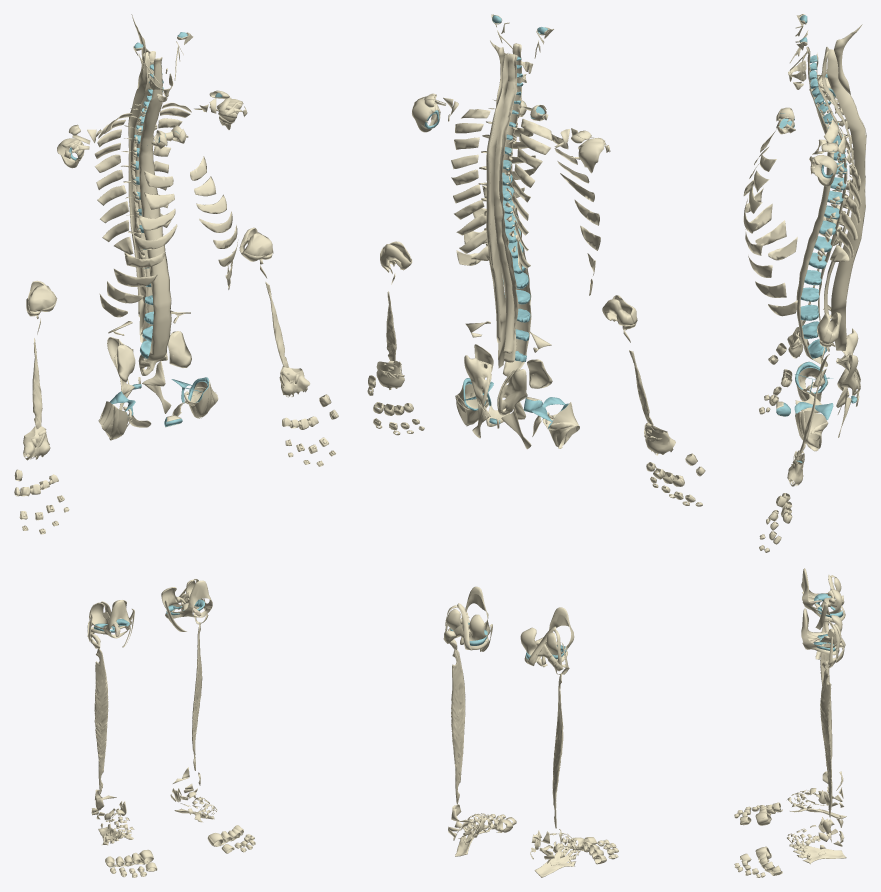
The model's file is joints.glb.
3 views of the same model, side by side, from view 1: azimuth 30°, elevation 25°; view 2: azimuth 150°, elevation 25°; view 3: azimuth 270°, elevation 25° (orthographic). The views are drawn at different scales.
Parts seen in each view (by area): view 1: anterior-longitudinal-ligament, external-intercostal-membrane-right, internal-intercostal-membrane-right, external-intercostal-membrane-left, interosseous-membrane-of-leg-right, interspinous-ligaments, articular-capsule-of-knee-joint-left, internal-intercostal-membrane-left, articular-capsule-of-knee-joint-right, articular-capsule-of-elbow-joint-left, interosseous-membrane-of-leg-left, articular-capsule-of-elbow-joint-right (+2 smaller); view 2: internal-intercostal-membrane-left, ligamenta-flava, interspinous-ligaments, internal-intercostal-membrane-right, interosseous-membrane-of-leg-left, anterior-longitudinal-ligament, external-intercostal-membrane-right, posterior-longitudinal-ligament, articular-capsule-of-knee-joint-left, articular-capsule-of-knee-joint-right, supraspinous-ligament, posterior-sacro-iliac-ligament-right (+4 smaller); view 3: interspinous-ligaments, external-intercostal-membrane-left, internal-intercostal-membrane-left, anterior-longitudinal-ligament, external-intercostal-membrane-right, interosseous-membrane-of-leg-left, ligamenta-flava, articular-capsule-of-knee-joint-left, articular-capsule-of-knee-joint-right, posterior-longitudinal-ligament, long-plantar-ligament-left, articular-capsule-of-hip-joint-left (+15 smaller).
Boxes of the visible parts, x1,y1,x2,y2 form: anterior-longitudinal-ligament: (138,57,171,363); external-intercostal-membrane-right: (99,170,177,317); internal-intercostal-membrane-right: (94,113,133,254); external-intercostal-membrane-left: (190,156,238,289); interosseous-membrane-of-leg-right: (94,648,108,794); interspinous-ligaments: (130,50,149,342); articular-capsule-of-knee-joint-left: (161,579,212,618); internal-intercostal-membrane-left: (153,102,191,235); articular-capsule-of-knee-joint-right: (90,600,131,638); articular-capsule-of-elbow-joint-left: (239,227,272,261); interosseous-membrane-of-leg-left: (192,622,202,770); articular-capsule-of-elbow-joint-right: (28,280,56,311); internal-intercostal-membrane-left: (451,109,490,260); ligamenta-flava: (494,53,515,353); interspinous-ligaments: (488,53,508,368); internal-intercostal-membrane-right: (512,119,552,271); interosseous-membrane-of-leg-left: (451,649,465,804); anterior-longitudinal-ligament: (502,43,531,376); external-intercostal-membrane-right: (551,134,600,295); posterior-longitudinal-ligament: (499,53,518,362); articular-capsule-of-knee-joint-left: (446,586,489,649); articular-capsule-of-knee-joint-right: (520,607,574,662); supraspinous-ligament: (486,108,500,343); posterior-sacro-iliac-ligament-right: (497,368,527,415); interspinous-ligaments: (826,49,865,350); external-intercostal-membrane-left: (743,154,797,316); internal-intercostal-membrane-left: (824,116,861,262); anterior-longitudinal-ligament: (796,46,833,366); external-intercostal-membrane-right: (743,129,797,260); interosseous-membrane-of-leg-left: (820,668,832,817); ligamenta-flava: (822,47,854,341); articular-capsule-of-knee-joint-left: (801,608,842,655); articular-capsule-of-knee-joint-right: (801,568,844,622); posterior-longitudinal-ligament: (816,53,847,351); long-plantar-ligament-left: (789,843,846,864); articular-capsule-of-hip-joint-left: (795,410,827,447).
Size of the model in its own units: 0.6613 by 1.58 by 0.2308.
